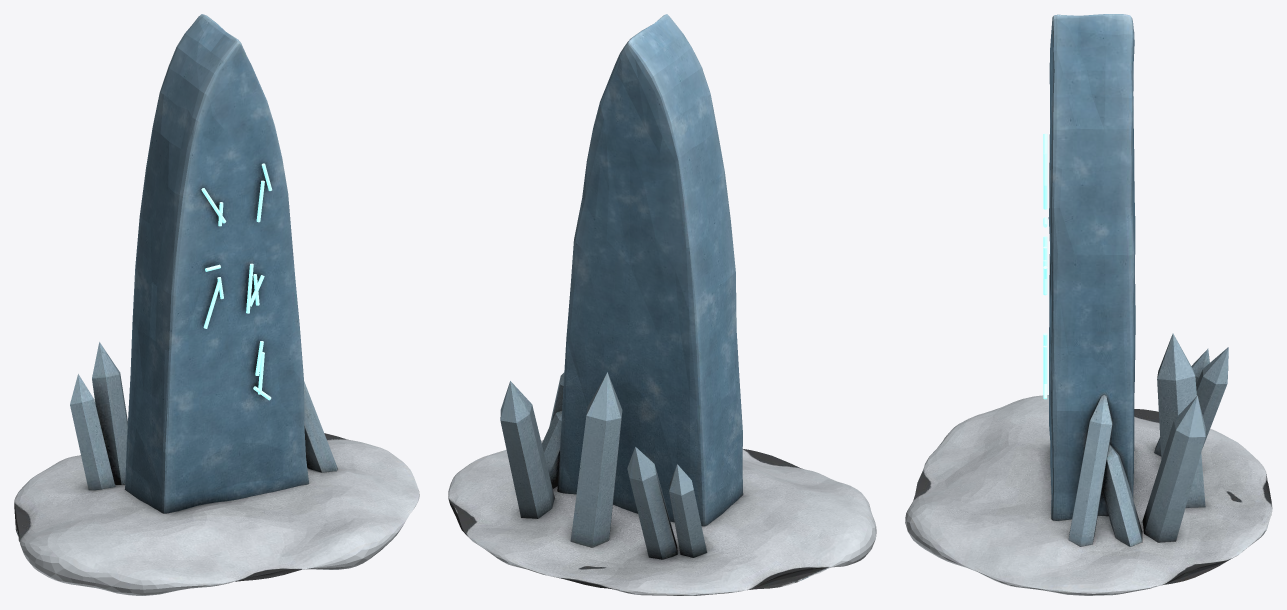
The model's file is geada_runa_gelo.glb.
The picture shows the model from 3 angles, left to right: view 1: azimuth 30°, elevation 25°; view 2: azimuth 150°, elevation 25°; view 3: azimuth 270°, elevation 25°; orthographic projection. The views are drawn at different scales.
Visible parts, largest first — view 1: geada_runa_gelo_tronco; view 2: geada_runa_gelo_tronco; view 3: geada_runa_gelo_tronco.
Part boxes in pixels (box(x1,y1,x2,y2)): geada_runa_gelo_tronco: box(14, 14, 419, 595); geada_runa_gelo_tronco: box(448, 14, 876, 595); geada_runa_gelo_tronco: box(905, 14, 1272, 595).
Bounding box in the file's own units: 2.39 × 3.02 × 1.96.
14 materials, 1 textured.
